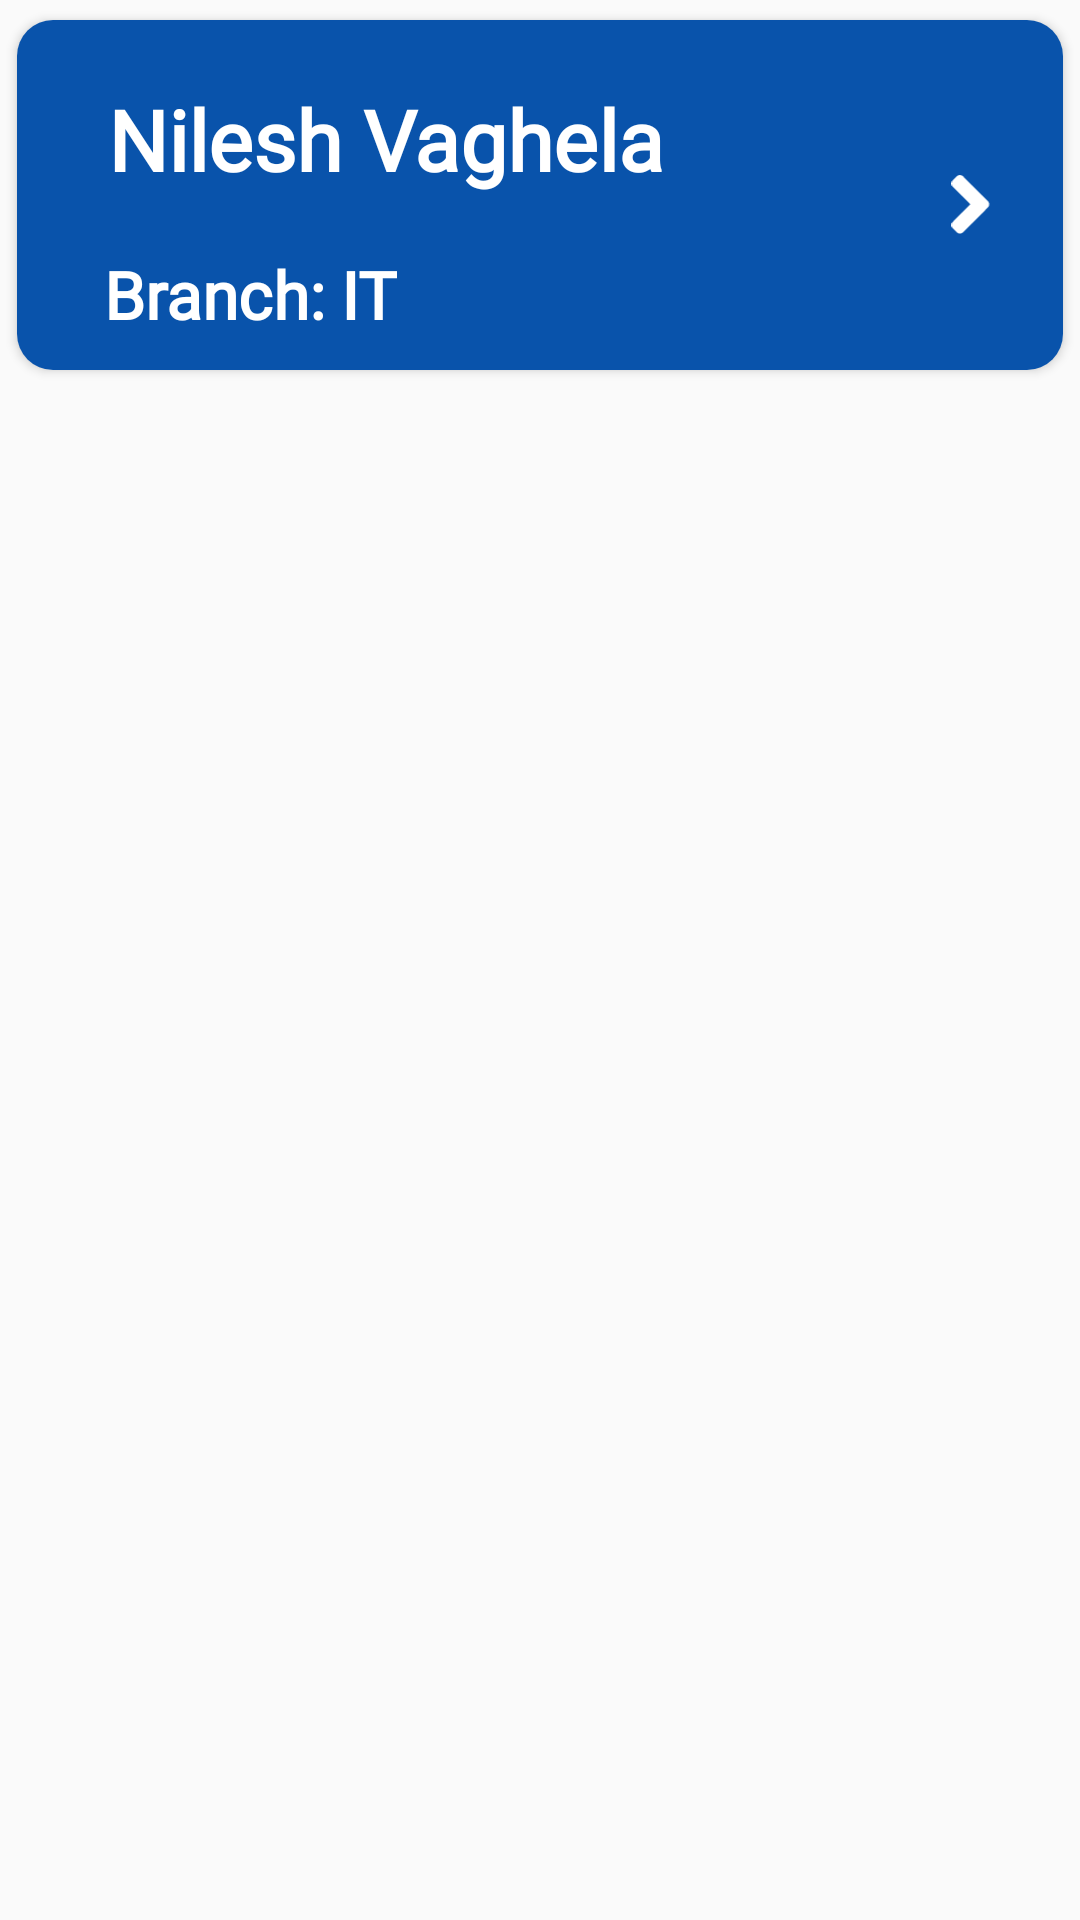

Locate icon controls on the screen. Image size 1080 × 1920, boxes as box(x1, y1, x2, y2).
arrow: box(951, 175, 990, 234)
